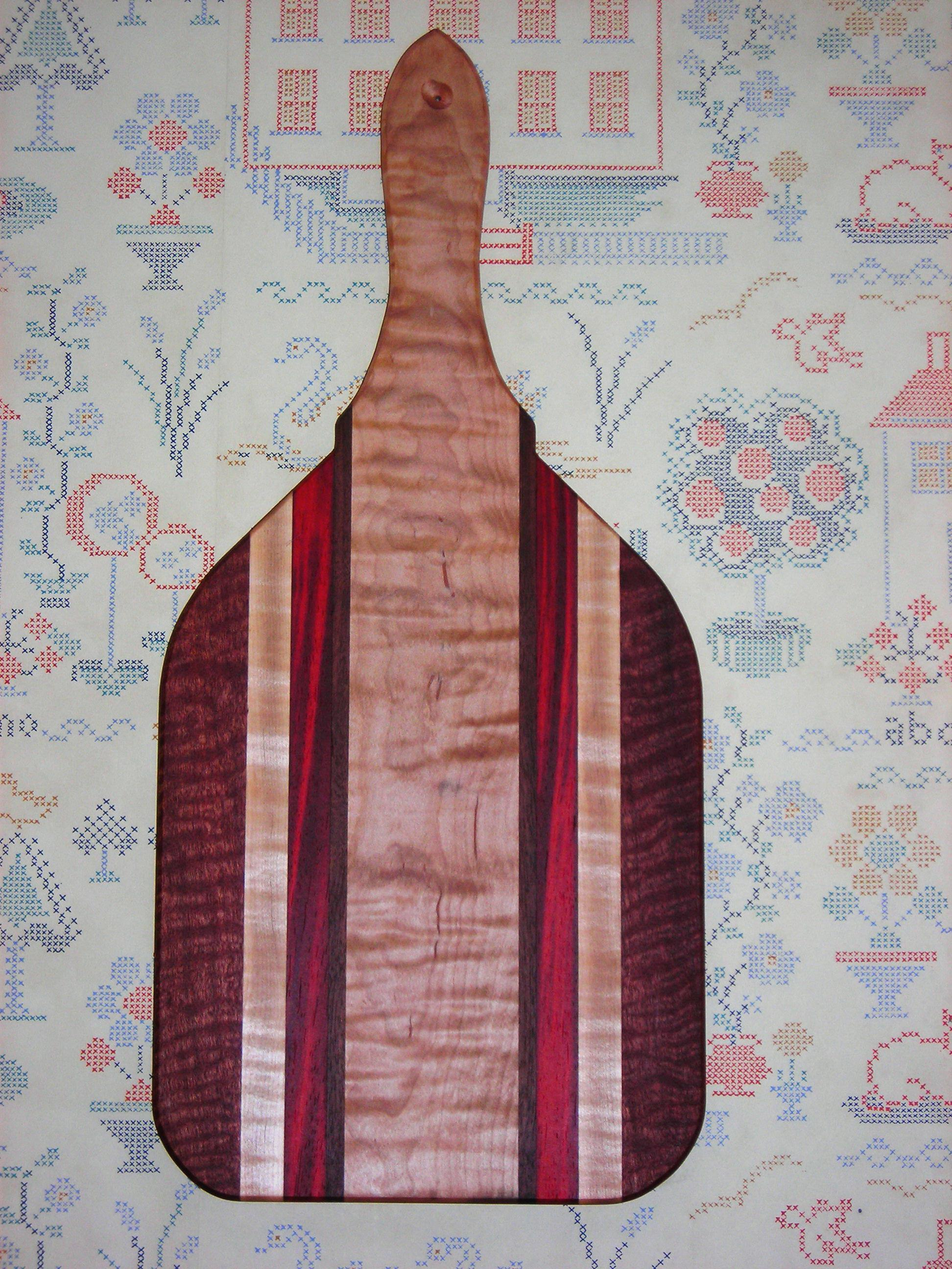gloved_hand: (118, 23, 731, 1221)
